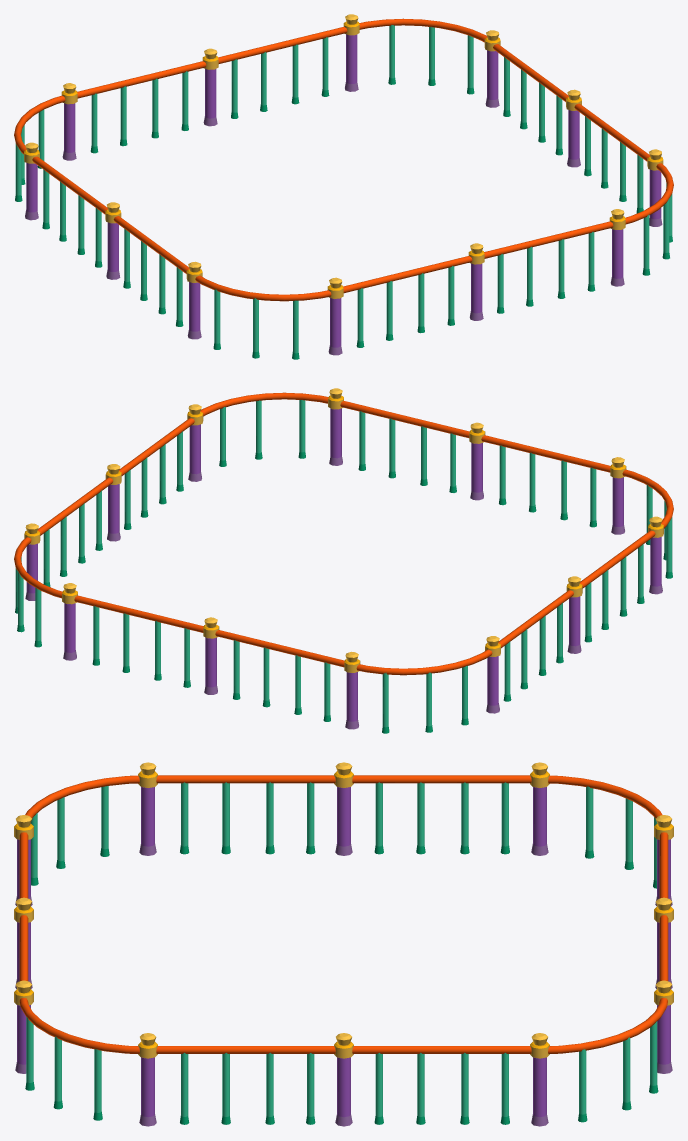
File: fence_rocket.fbx
3 renders of one model, top to bottom at view 1: azimuth 30°, elevation 25°; view 2: azimuth 150°, elevation 25°; view 3: azimuth 270°, elevation 25°, orthographic. The views are drawn at different scales.
Parts seen in each view (by area): view 1: fence_rocket; view 2: fence_rocket; view 3: fence_rocket.
Boxes of the visible parts, x1=… form: fence_rocket: x1=14, y1=14, x2=673, y2=359; fence_rocket: x1=14, y1=388, x2=673, y2=733; fence_rocket: x1=14, y1=762, x2=673, y2=1126.
Bounding box in the file's own units: 505 × 74.33 × 505.
